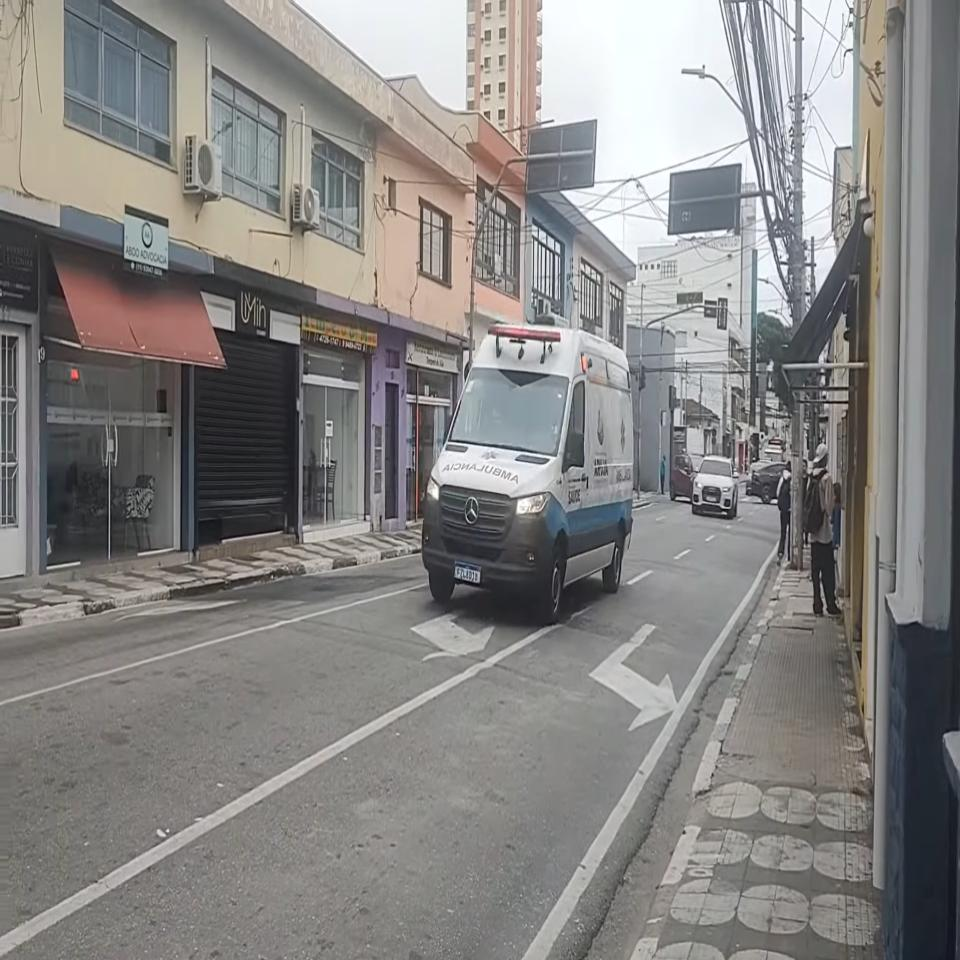bombeiro: (421, 322, 634, 626)
